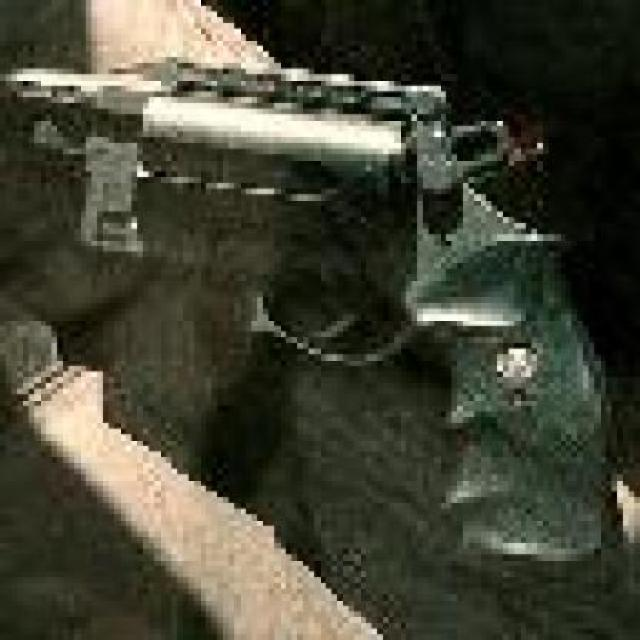rifle: (4, 0, 612, 567)
